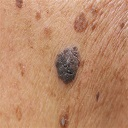Melanoma: (53, 46, 81, 85)
